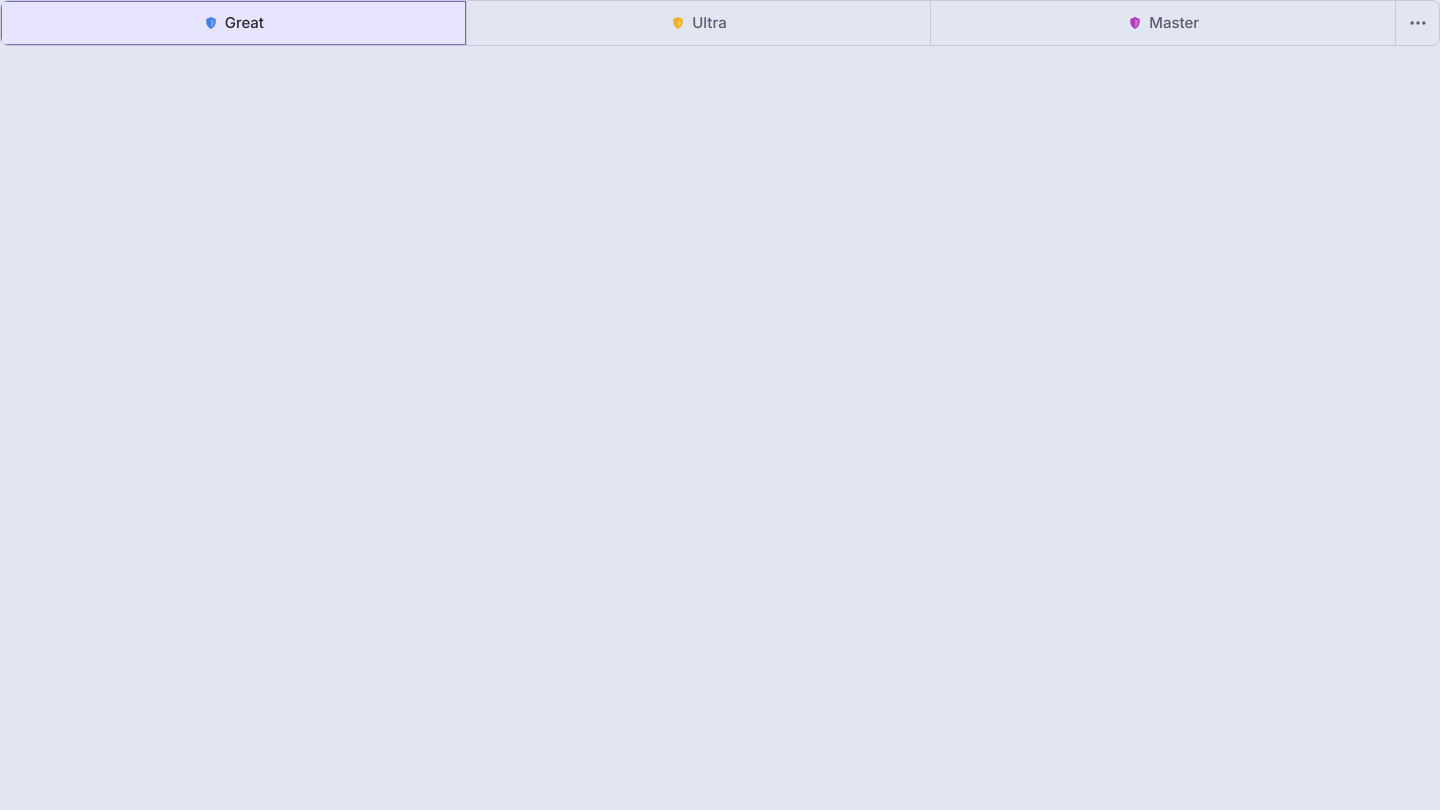
Test: LeagueSwitcher › lists every league and cup in the sheet, hides the special cups, and picking one switches league and closes it
Click the button named "More leagues and cups" at (1418, 23), box [1396,0,1439,46]
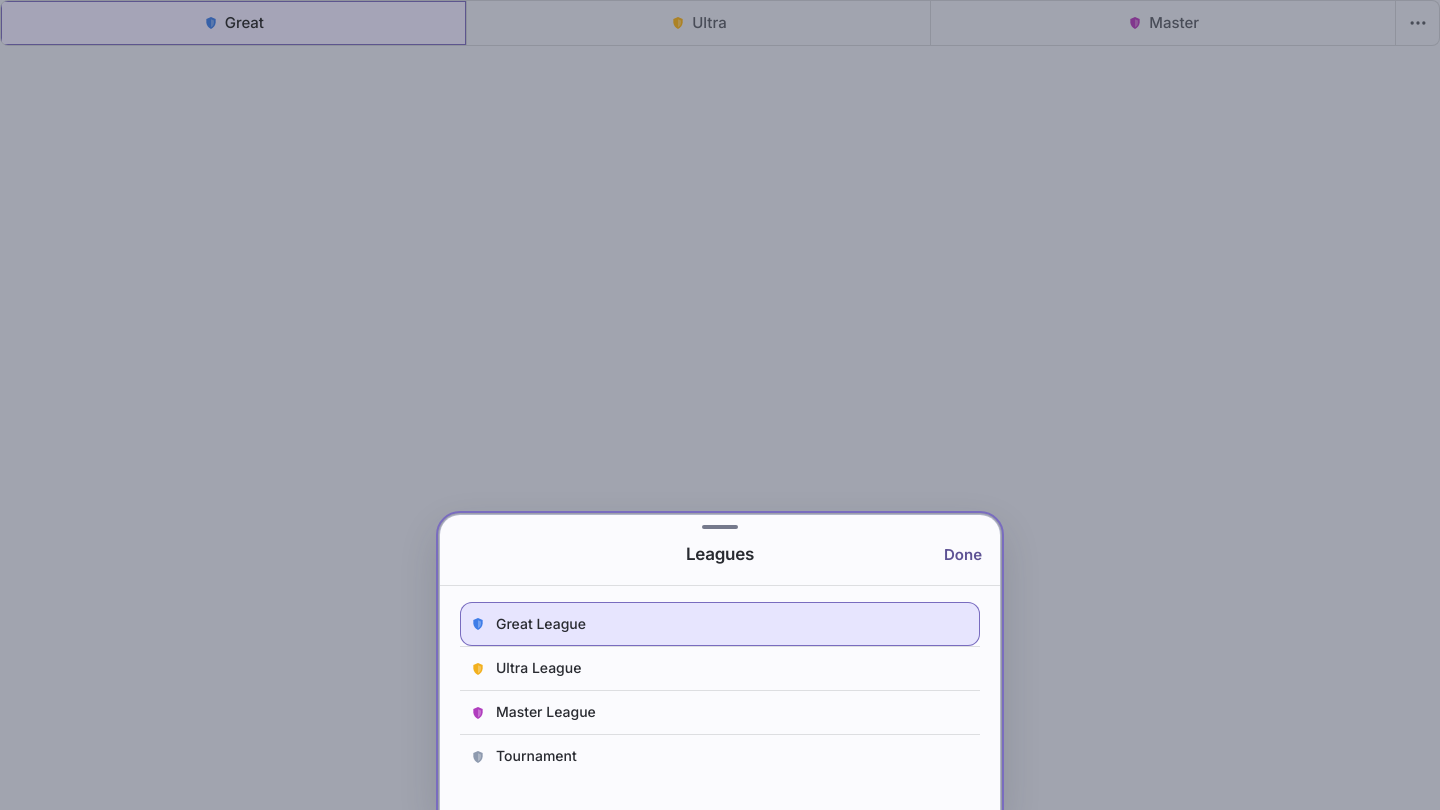
Expected: the heading "Leagues" is shown, [686,545,754,565]
Expected: the radio button labelled "Tournament" is shown
Click the radio button labelled "Tournament" at (536, 756), box [460,734,980,778]
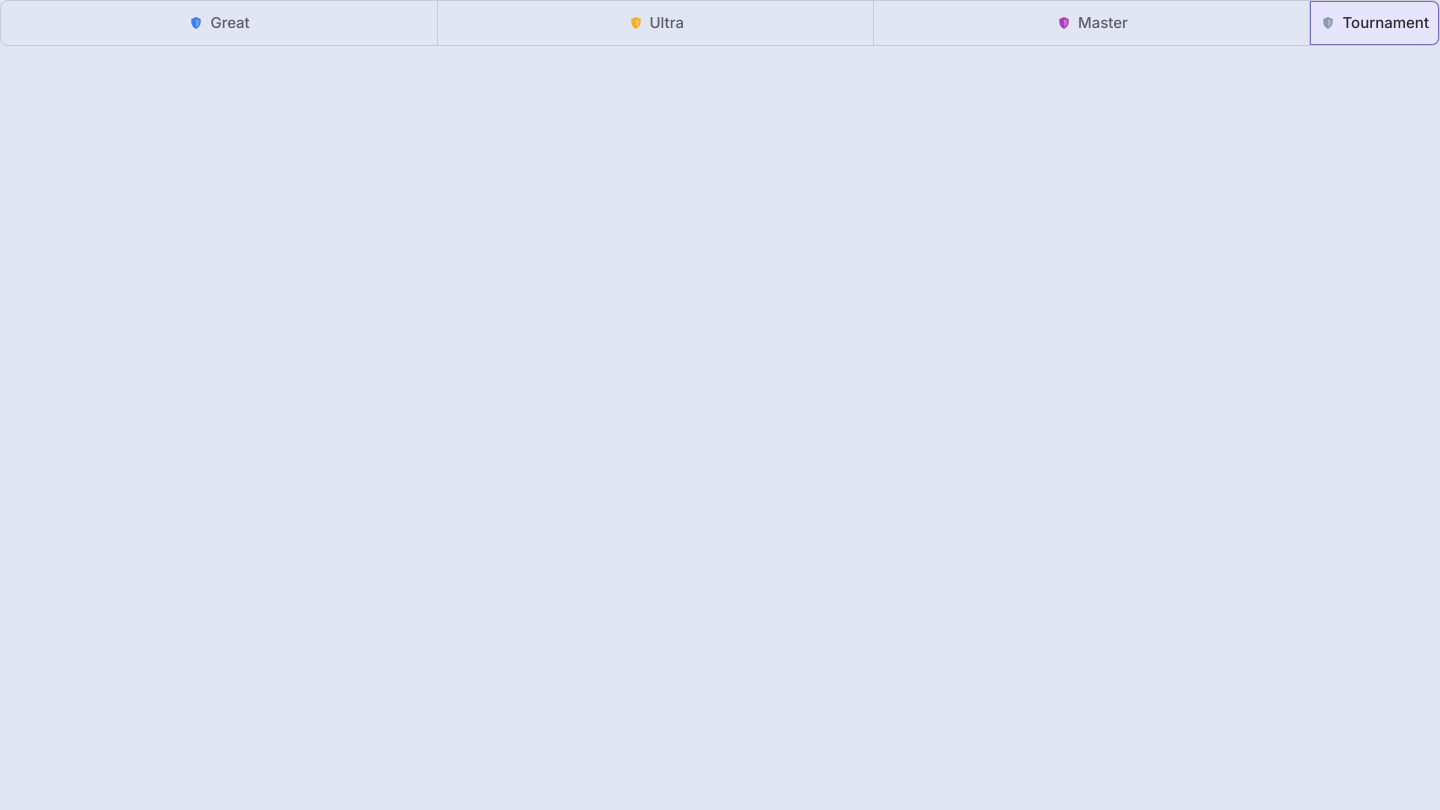
Expected: the dialog is gone
